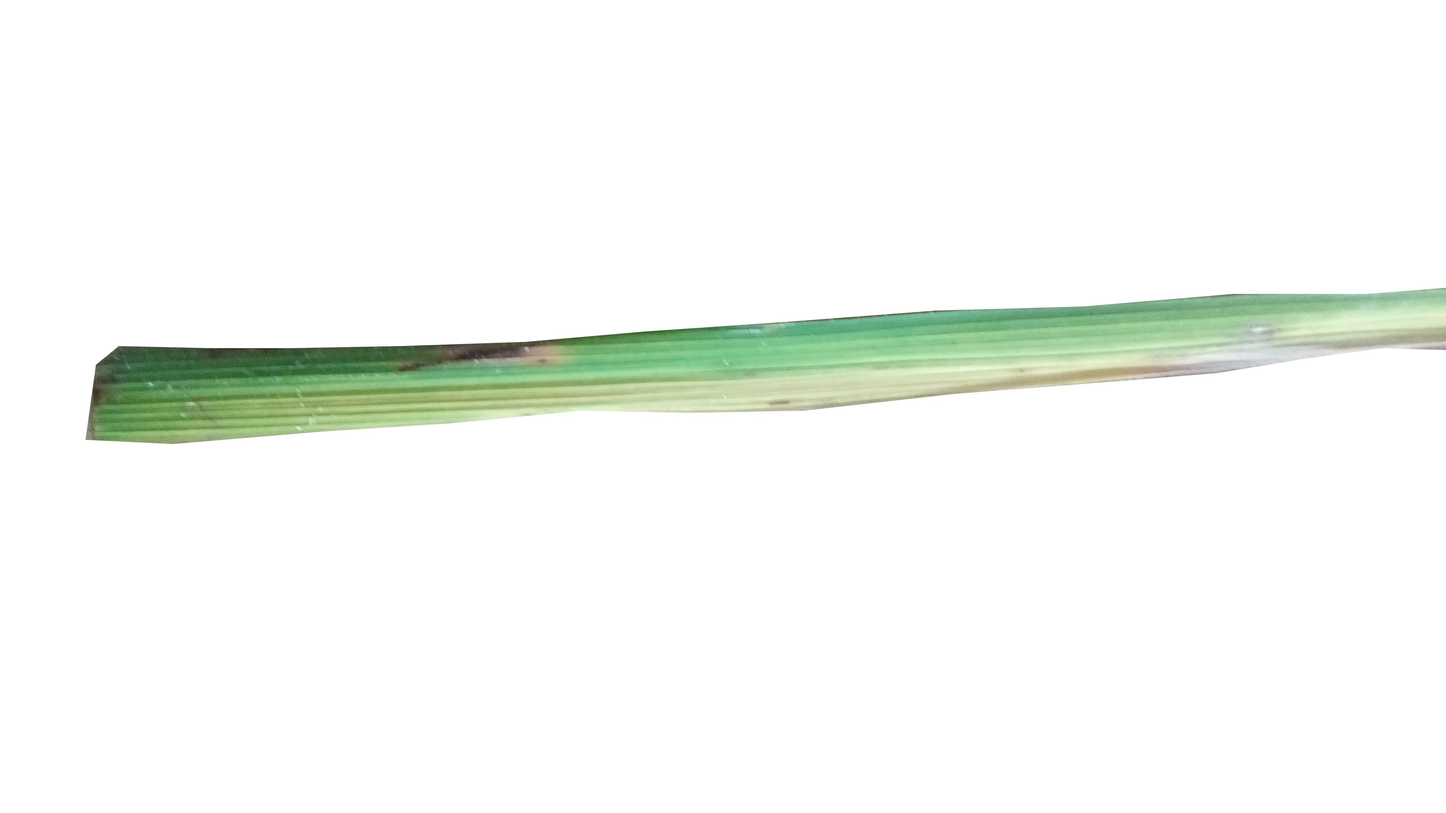Rice blast: (367, 337, 638, 372)
